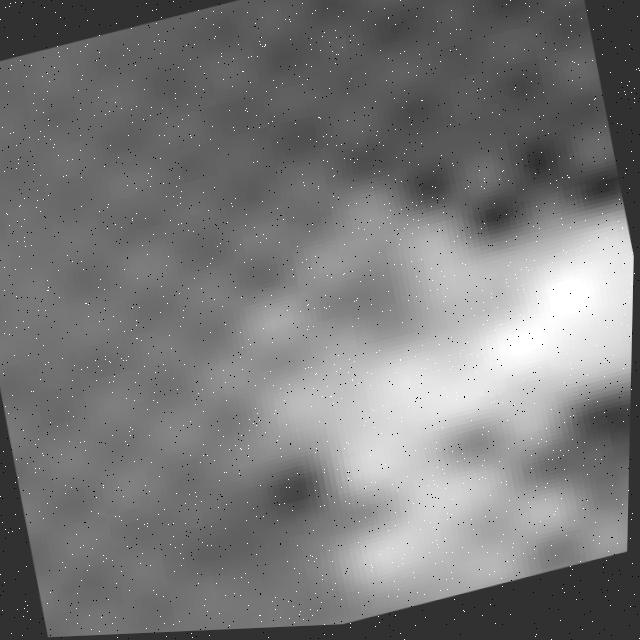person: (169, 165, 638, 563)
